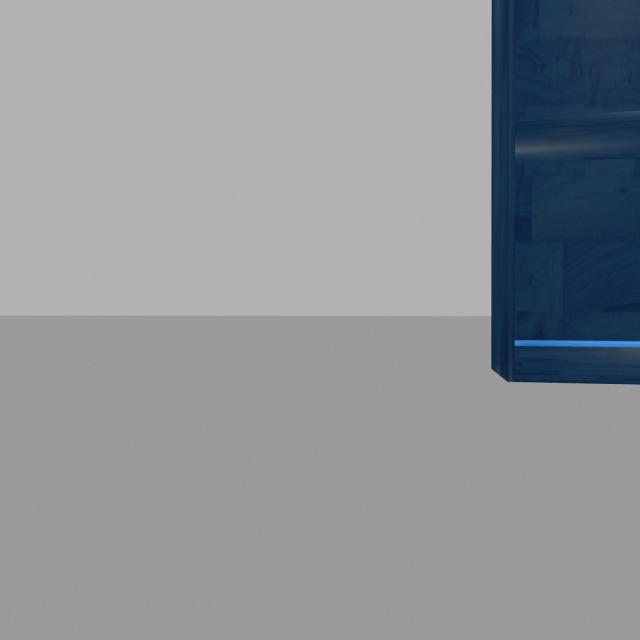shelf: (475, 0, 640, 428)
